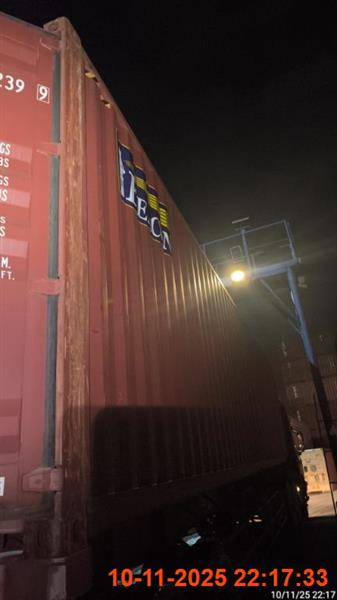broken: (1, 11, 312, 598)
